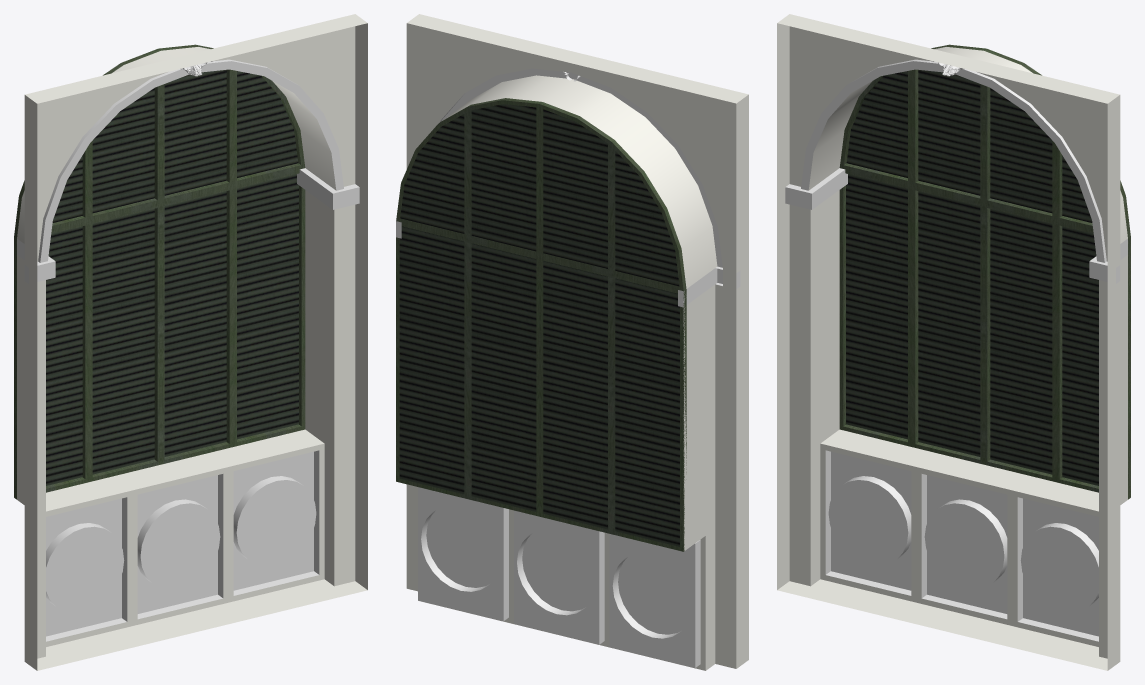
Rendered from window_floor2_side3.glb.
3 views of the same model, side by side, from view 1: azimuth 30°, elevation 25°; view 2: azimuth 150°, elevation 25°; view 3: azimuth 330°, elevation 25° (orthographic).
Visible parts, largest first — view 1: 3DGeom-1, 3DGeom-10.001, 3DGeom-2, 3DGeom-10, 3DGeom-11.001, 3DGeom-11; view 2: 3DGeom-1, 3DGeom-10.001, 3DGeom-10, 3DGeom-2, 3DGeom-11, 3DGeom-11.001; view 3: 3DGeom-1, 3DGeom-10, 3DGeom-2, 3DGeom-10.001, 3DGeom-11, 3DGeom-11.001.
Boxes of the visible parts, left/top/right/bottom form: 3DGeom-1: left=17, top=14, right=367, bottom=670; 3DGeom-10.001: left=164, top=70, right=298, bottom=456; 3DGeom-2: left=17, top=59, right=359, bottom=641; 3DGeom-10: left=46, top=88, right=154, bottom=485; 3DGeom-11.001: left=159, top=44, right=305, bottom=464; 3DGeom-11: left=14, top=48, right=160, bottom=499; 3DGeom-1: left=406, top=14, right=748, bottom=670; 3DGeom-10.001: left=399, top=104, right=536, bottom=511; 3DGeom-10: left=543, top=109, right=679, bottom=546; 3DGeom-2: left=396, top=68, right=740, bottom=667; 3DGeom-11: left=540, top=102, right=686, bottom=551; 3DGeom-11.001: left=396, top=98, right=541, bottom=516; 3DGeom-1: left=777, top=14, right=1127, bottom=670; 3DGeom-10: left=846, top=70, right=980, bottom=456; 3DGeom-2: left=785, top=59, right=1127, bottom=641; 3DGeom-10.001: left=990, top=88, right=1098, bottom=485; 3DGeom-11: left=839, top=44, right=985, bottom=464; 3DGeom-11.001: left=984, top=48, right=1130, bottom=499.
Size of the model in its own units: 1.92 by 3.14 by 0.4452.
Materials: 4 (2 with a texture image).
